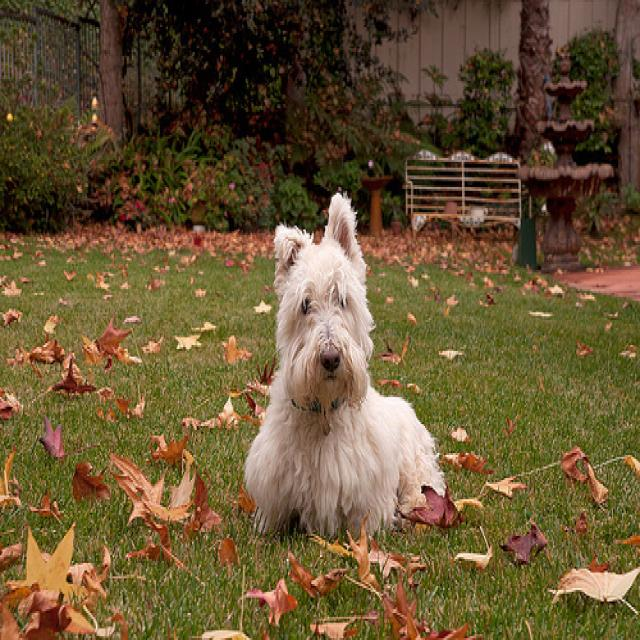dog-scottish_terrier: (236, 181, 451, 553)
